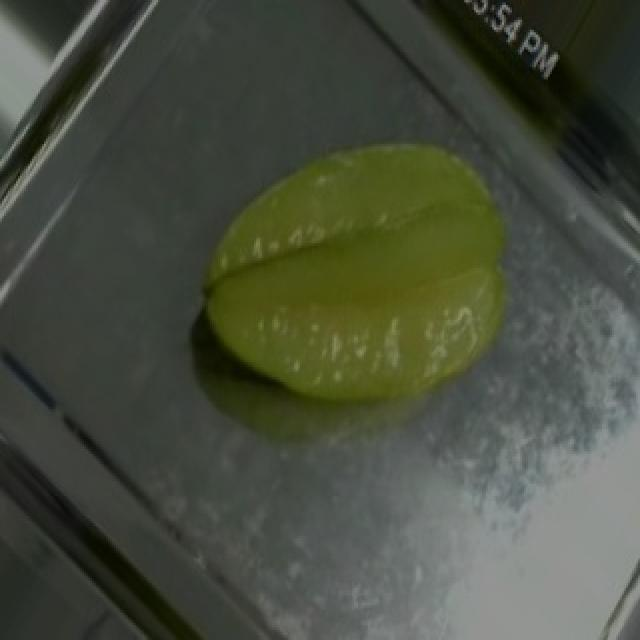fruit: (122, 30, 600, 466)
